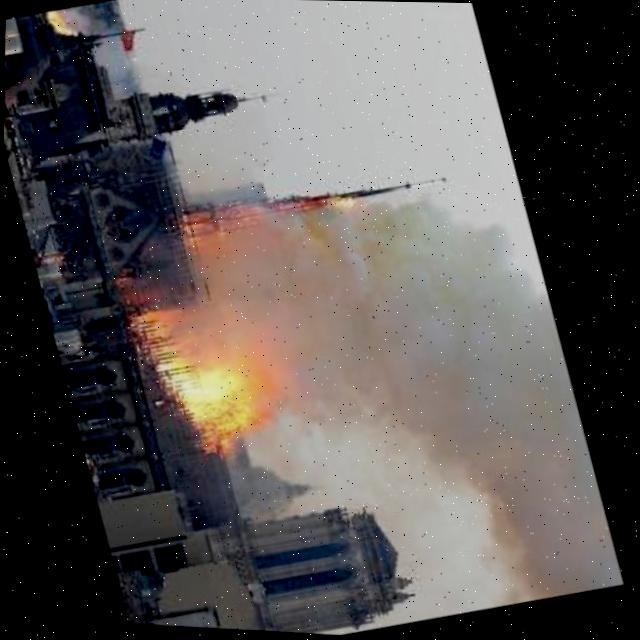fire: (214, 191, 582, 501), (122, 259, 282, 481), (181, 157, 375, 260)
